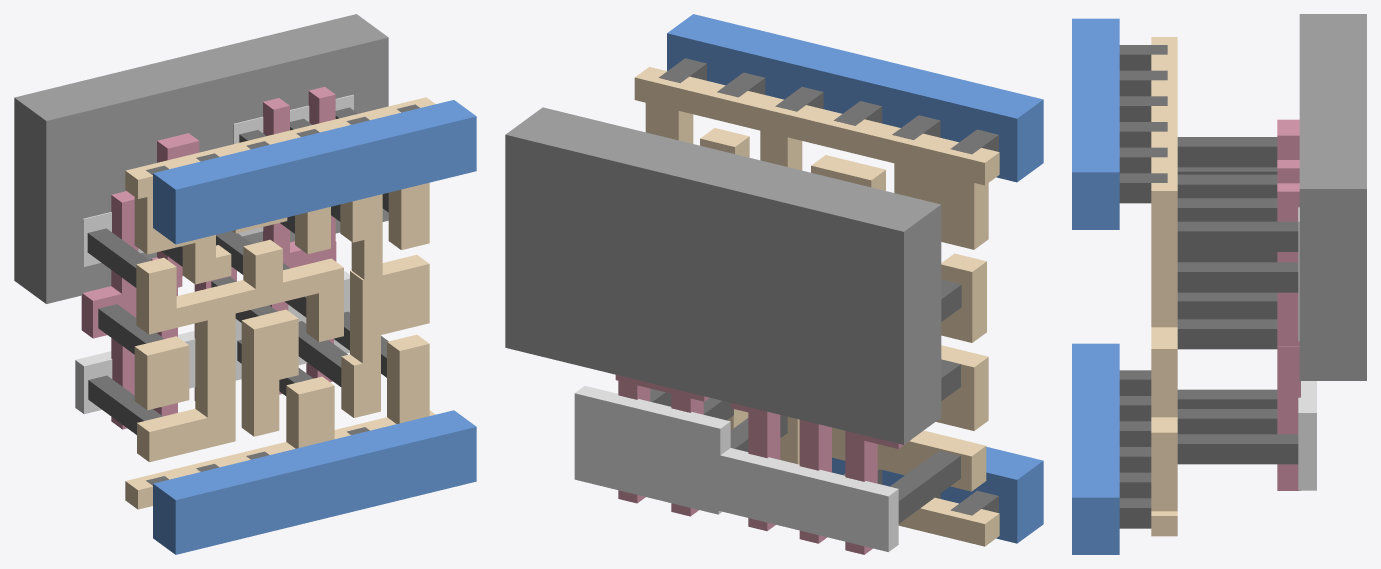
Rendered from sky130_fd_sc_hd__and3_2.gds.gltf.
3 views of the same model, side by side, from view 1: azimuth 30°, elevation 25°; view 2: azimuth 150°, elevation 25°; view 3: azimuth 270°, elevation 25° (orthographic). The views are drawn at different scales.
Visible parts, largest first — view 1: sky130_fd_sc_hd__and3_2_li1, sky130_fd_sc_hd__and3_2_met1, sky130_fd_sc_hd__and3_2_nwell, sky130_fd_sc_hd__and3_2_licon, sky130_fd_sc_hd__and3_2_poly, sky130_fd_sc_hd__and3_2_diff, sky130_fd_sc_hd__and3_2_mcon; view 2: sky130_fd_sc_hd__and3_2_nwell, sky130_fd_sc_hd__and3_2_li1, sky130_fd_sc_hd__and3_2_met1, sky130_fd_sc_hd__and3_2_diff, sky130_fd_sc_hd__and3_2_poly, sky130_fd_sc_hd__and3_2_licon, sky130_fd_sc_hd__and3_2_mcon; view 3: sky130_fd_sc_hd__and3_2_licon, sky130_fd_sc_hd__and3_2_nwell, sky130_fd_sc_hd__and3_2_met1, sky130_fd_sc_hd__and3_2_li1, sky130_fd_sc_hd__and3_2_mcon, sky130_fd_sc_hd__and3_2_poly, sky130_fd_sc_hd__and3_2_diff.
Part boxes in pixels (left/top/right/bottom): sky130_fd_sc_hd__and3_2_li1: left=125, top=97, right=435, bottom=509; sky130_fd_sc_hd__and3_2_met1: left=153, top=100, right=476, bottom=554; sky130_fd_sc_hd__and3_2_nwell: left=14, top=14, right=388, bottom=303; sky130_fd_sc_hd__and3_2_licon: left=87, top=107, right=388, bottom=434; sky130_fd_sc_hd__and3_2_poly: left=81, top=87, right=336, bottom=429; sky130_fd_sc_hd__and3_2_diff: left=75, top=94, right=353, bottom=414; sky130_fd_sc_hd__and3_2_mcon: left=146, top=104, right=419, bottom=485; sky130_fd_sc_hd__and3_2_nwell: left=505, top=107, right=941, bottom=444; sky130_fd_sc_hd__and3_2_li1: left=634, top=67, right=999, bottom=546; sky130_fd_sc_hd__and3_2_met1: left=667, top=14, right=1043, bottom=543; sky130_fd_sc_hd__and3_2_diff: left=574, top=386, right=898, bottom=551; sky130_fd_sc_hd__and3_2_poly: left=615, top=375, right=911, bottom=554; sky130_fd_sc_hd__and3_2_licon: left=650, top=279, right=961, bottom=523; sky130_fd_sc_hd__and3_2_mcon: left=659, top=58, right=998, bottom=515; sky130_fd_sc_hd__and3_2_licon: left=1177, top=137, right=1298, bottom=464; sky130_fd_sc_hd__and3_2_nwell: left=1299, top=14, right=1366, bottom=380; sky130_fd_sc_hd__and3_2_met1: left=1072, top=18, right=1119, bottom=554; sky130_fd_sc_hd__and3_2_li1: left=1151, top=37, right=1177, bottom=536; sky130_fd_sc_hd__and3_2_mcon: left=1119, top=45, right=1167, bottom=528; sky130_fd_sc_hd__and3_2_poly: left=1277, top=119, right=1300, bottom=490; sky130_fd_sc_hd__and3_2_diff: left=1298, top=207, right=1316, bottom=490.
Size of the model in its own units: 3.14 by 3.2 by 2.24.
